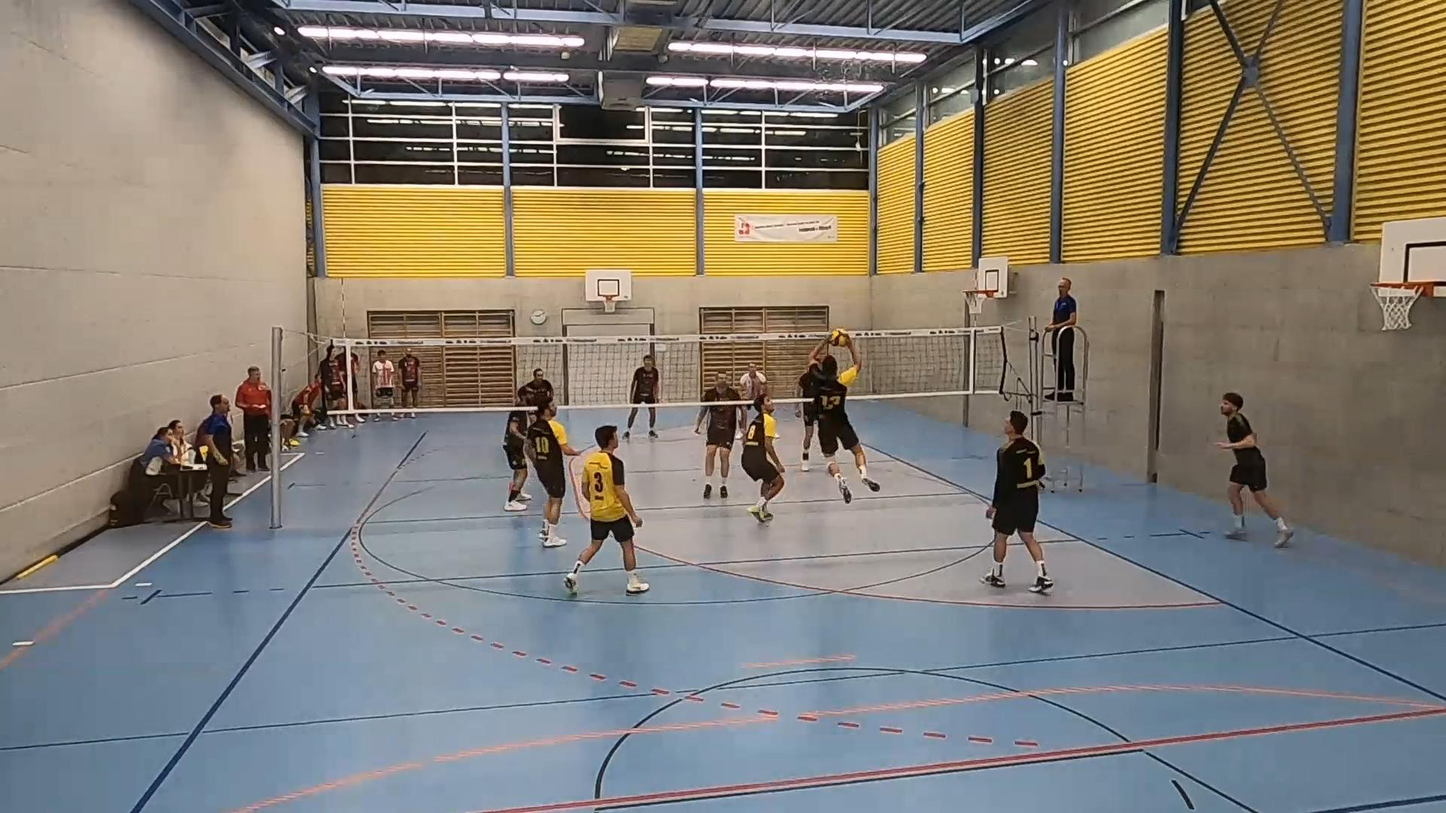alzata: (800, 334, 874, 500)
